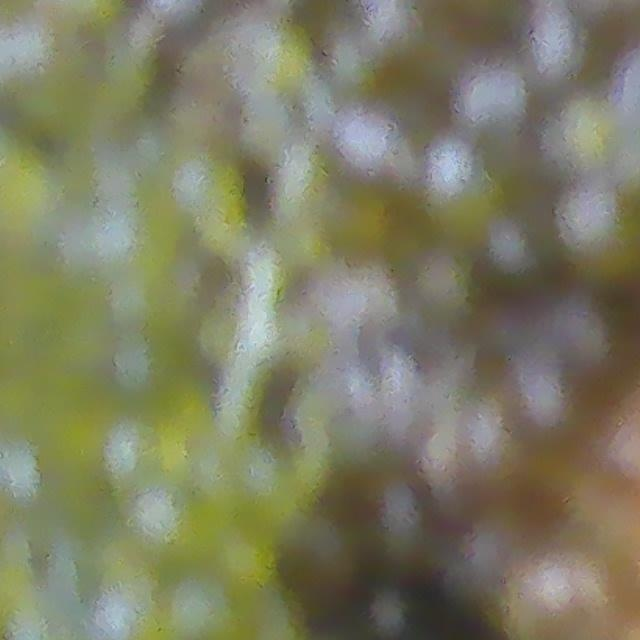SeaGrape: (156, 566, 252, 640)
